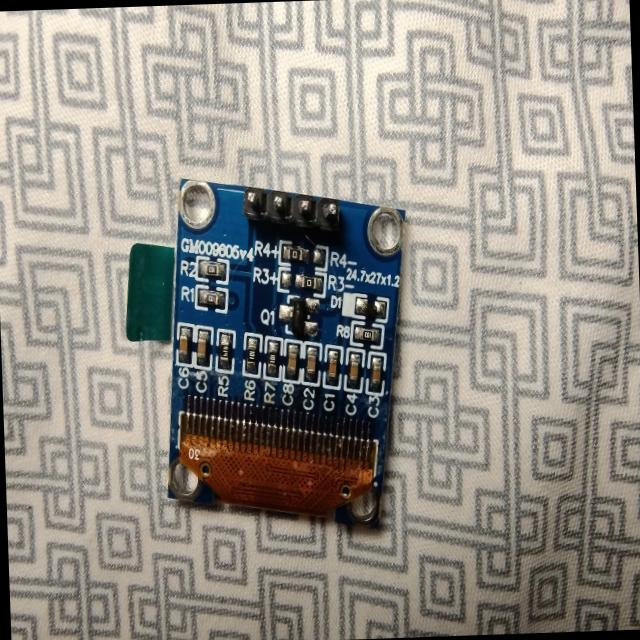oled: (116, 166, 422, 550)
